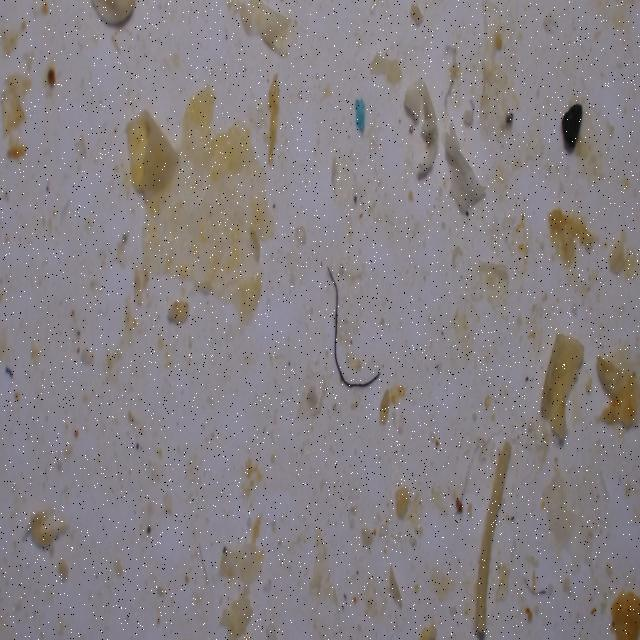Fibre: (318, 262, 384, 394)
